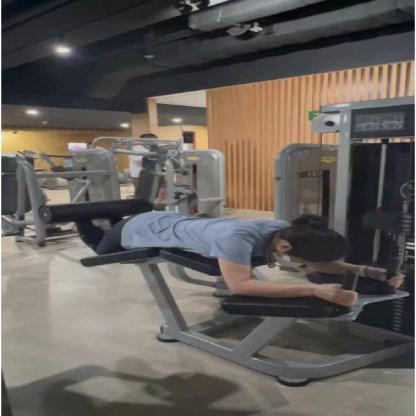reg curl machine: (27, 95, 416, 388)
